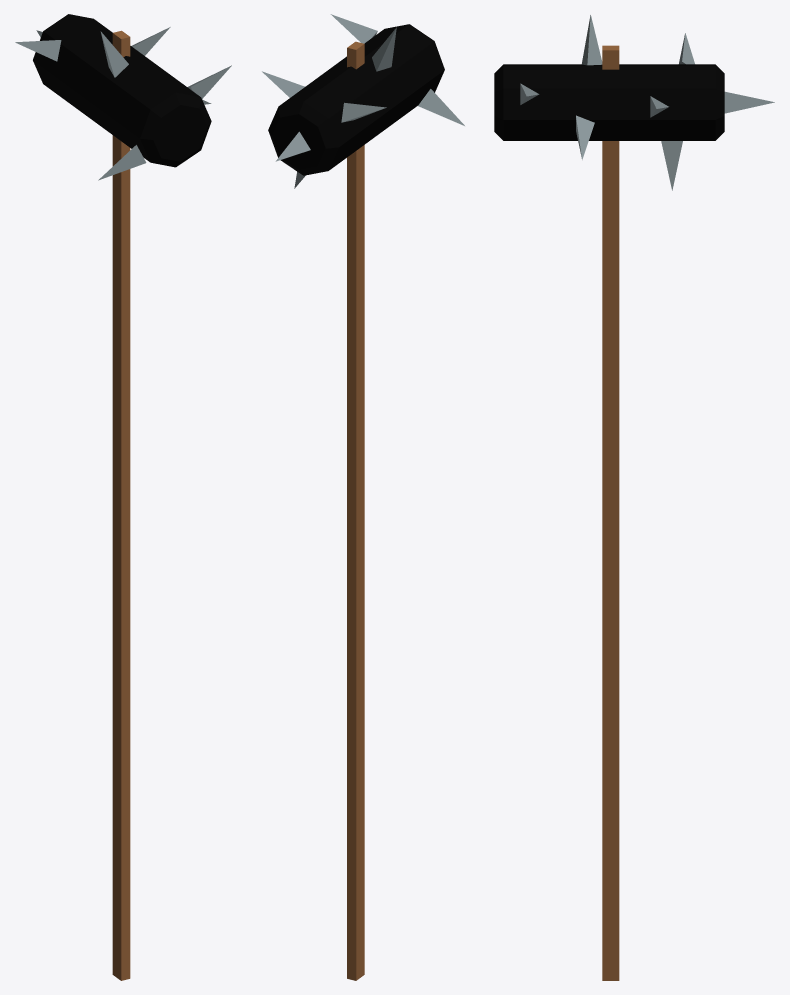
Rendered from S Sledgehammer.fbx.
3 views of the same model, side by side, from view 1: azimuth 30°, elevation 25°; view 2: azimuth 150°, elevation 25°; view 3: azimuth 270°, elevation 25° (orthographic).
Parts seen in each view (by area): view 1: Spiked Sledgehammer; view 2: Spiked Sledgehammer; view 3: Spiked Sledgehammer.
Boxes of the visible parts, box(x1,y1,x2,y2) form: Spiked Sledgehammer: box(15, 14, 231, 980); Spiked Sledgehammer: box(262, 14, 464, 980); Spiked Sledgehammer: box(494, 15, 774, 980).
Bounding box in the file's own units: 28.75 × 182 × 48.85.
